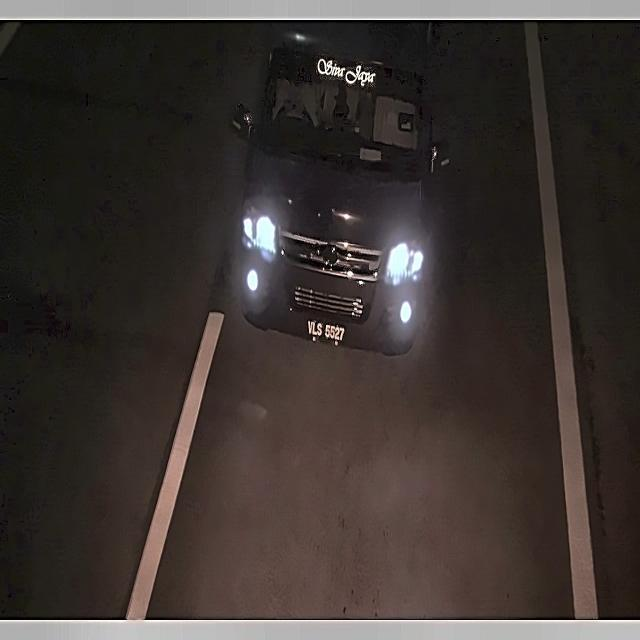car: (301, 310, 349, 349)
